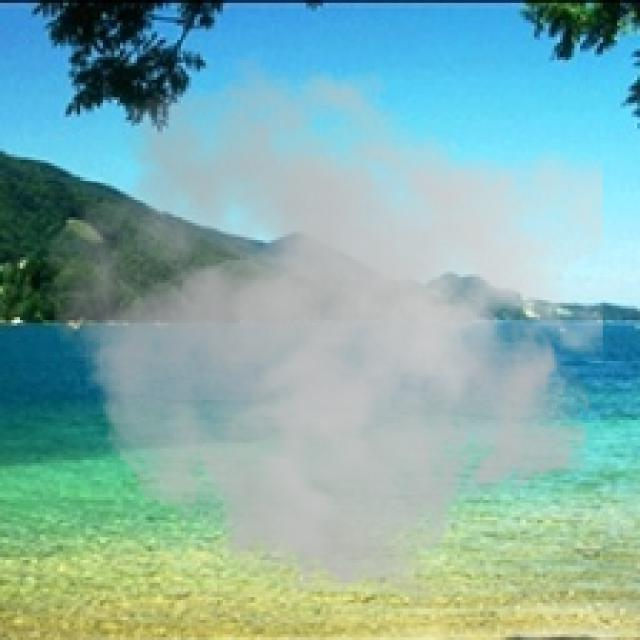Smoke: (43, 51, 603, 612)
